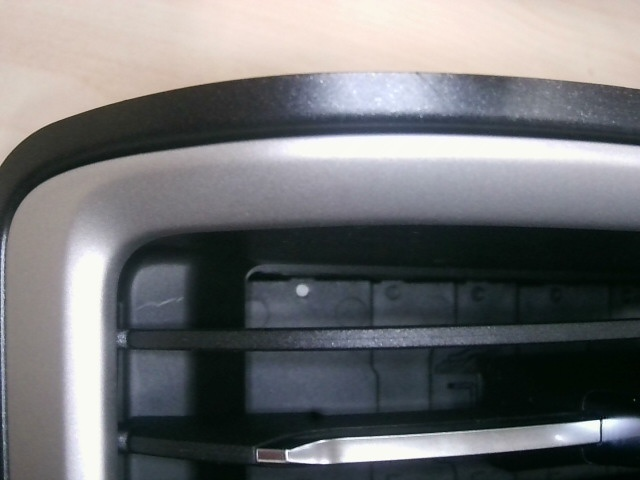NG: (399, 64, 456, 123)
